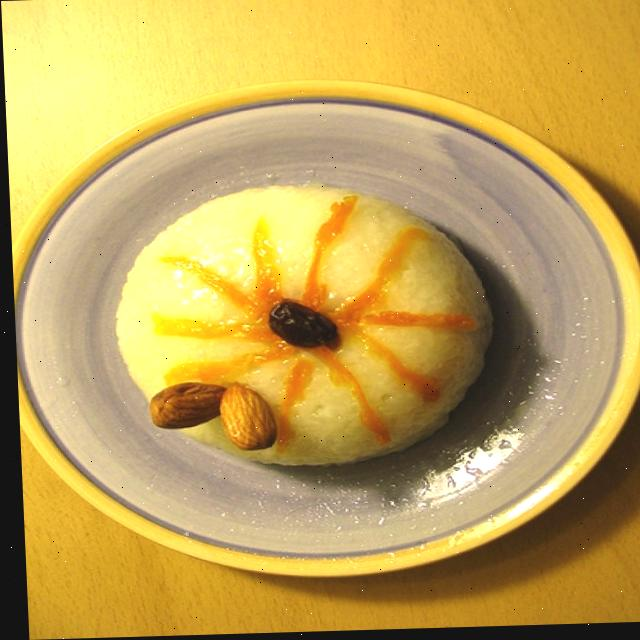米饭主食: (86, 136, 507, 532)
